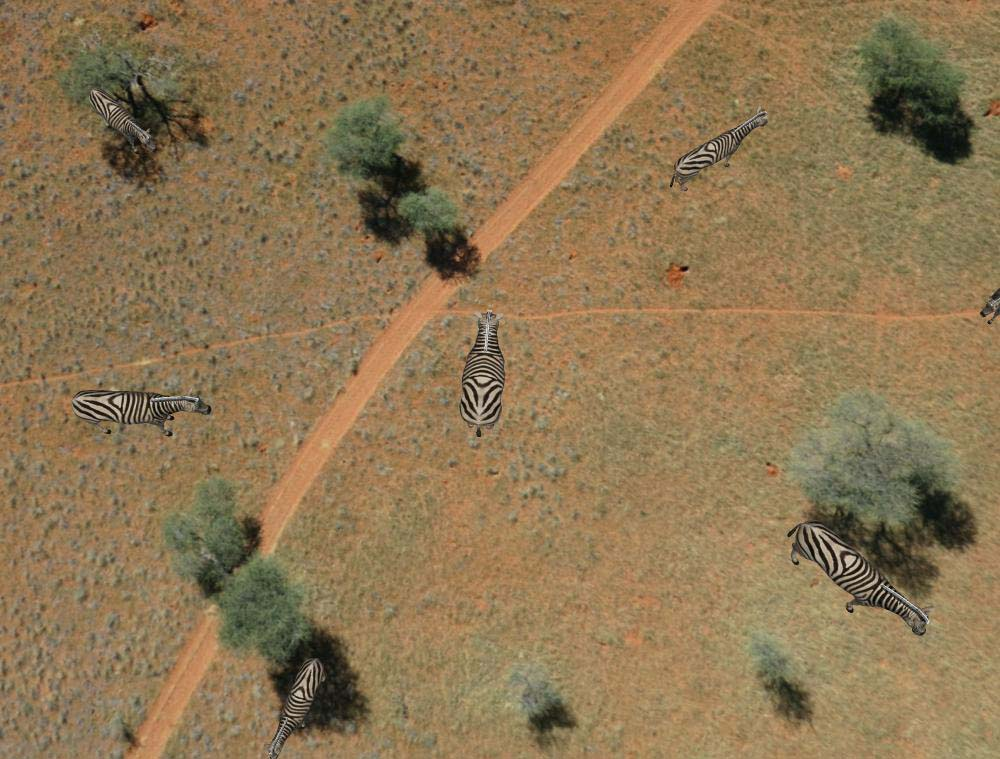zebra: (785, 512, 929, 651), (72, 378, 217, 448), (669, 108, 771, 191), (458, 305, 510, 450), (263, 651, 325, 759), (83, 81, 155, 158), (979, 280, 1000, 324)
